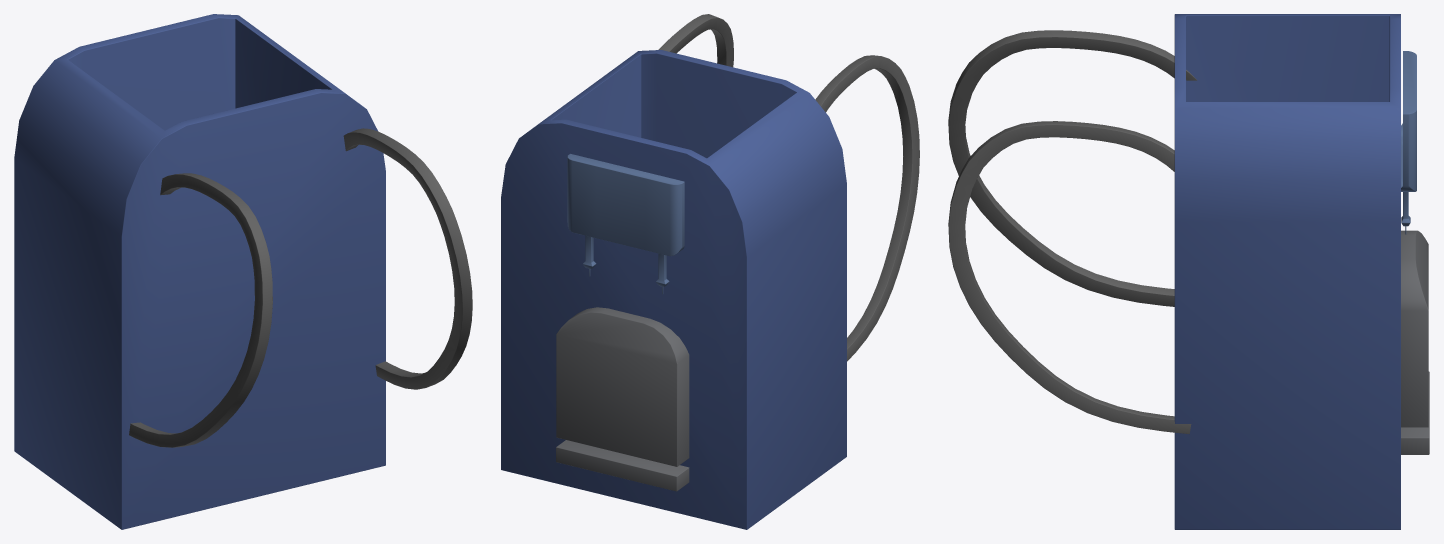
The model's file is canta_2.fbx.
The picture shows the model from 3 angles, left to right: view 1: azimuth 30°, elevation 25°; view 2: azimuth 150°, elevation 25°; view 3: azimuth 270°, elevation 25°; orthographic projection. The views are drawn at different scales.
Parts seen in each view (by area): view 1: Plane.022; view 2: Plane.022; view 3: Plane.022.
Boxes of the visible parts, box(x1,y1,x2,y2) form: Plane.022: box(14, 14, 472, 529); Plane.022: box(501, 14, 919, 529); Plane.022: box(948, 14, 1429, 529).
Size of the model in its own units: 305 by 427 by 455.
